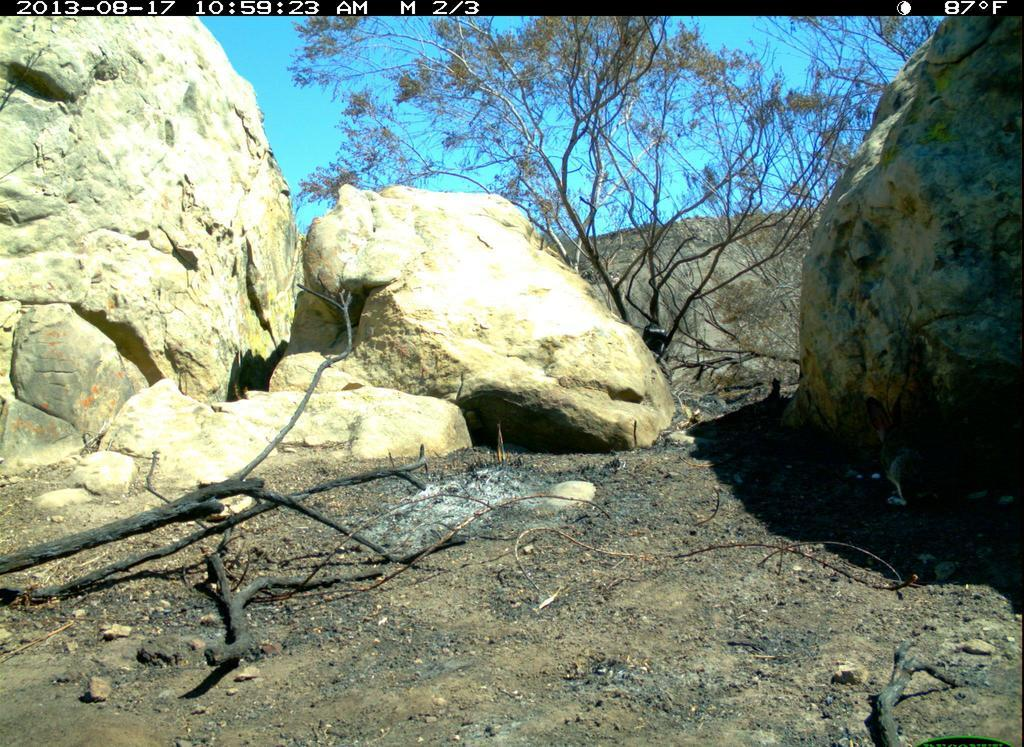rabbit: (861, 390, 953, 524)
